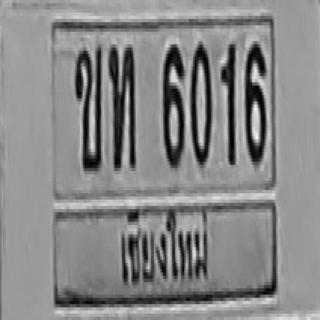A02: (74, 44, 101, 168)
A23: (108, 43, 135, 166)
N00: (189, 41, 212, 165)
N01: (220, 41, 236, 165)
N06: (161, 41, 184, 165), (244, 41, 266, 165)
P11: (111, 203, 218, 289)
